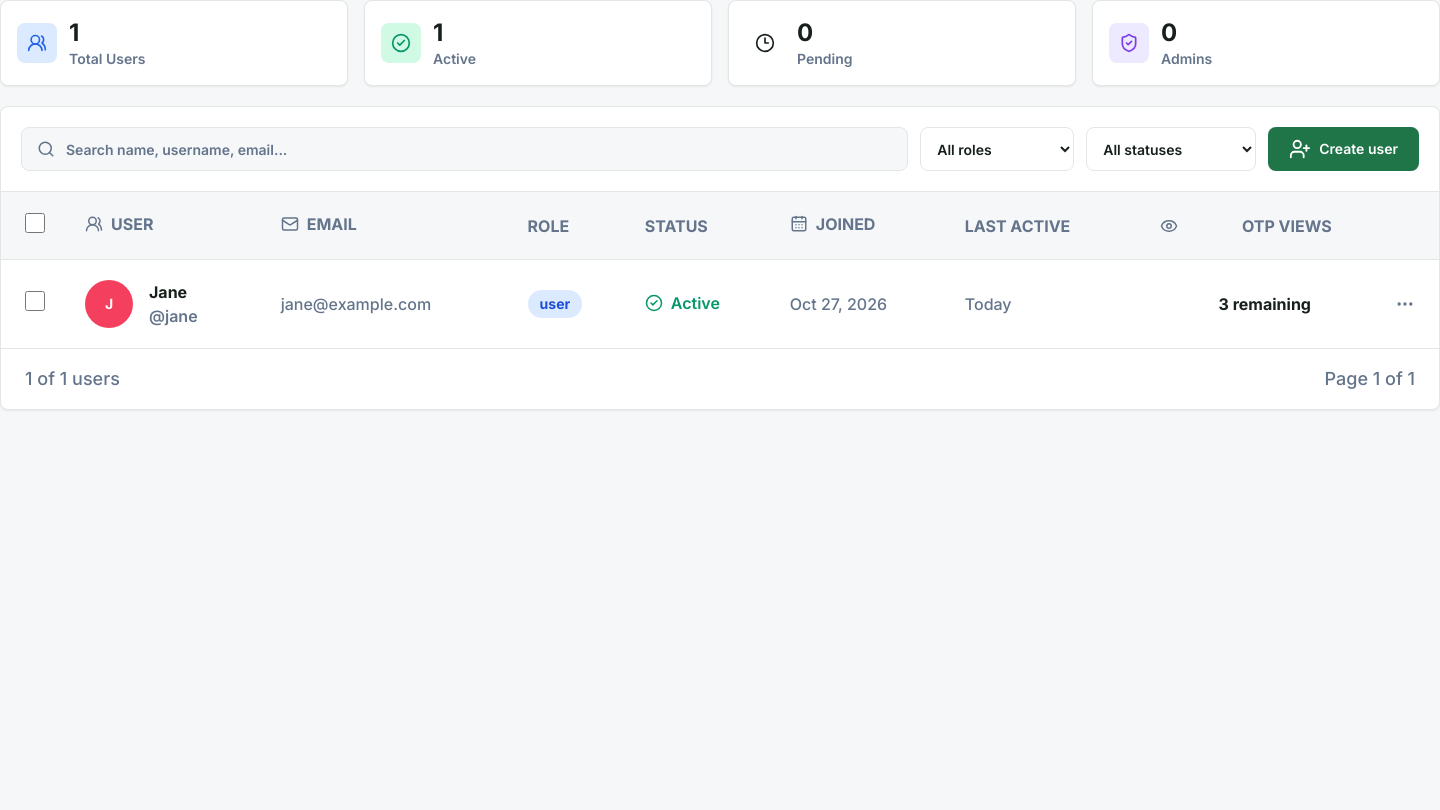
admin workflows › adjusts an account quota from the desktop controls
The width and height of the screenshot is (1440, 810).
Click the heading named "Actions for jane": [1405, 304] box [1395,294,1415,314]
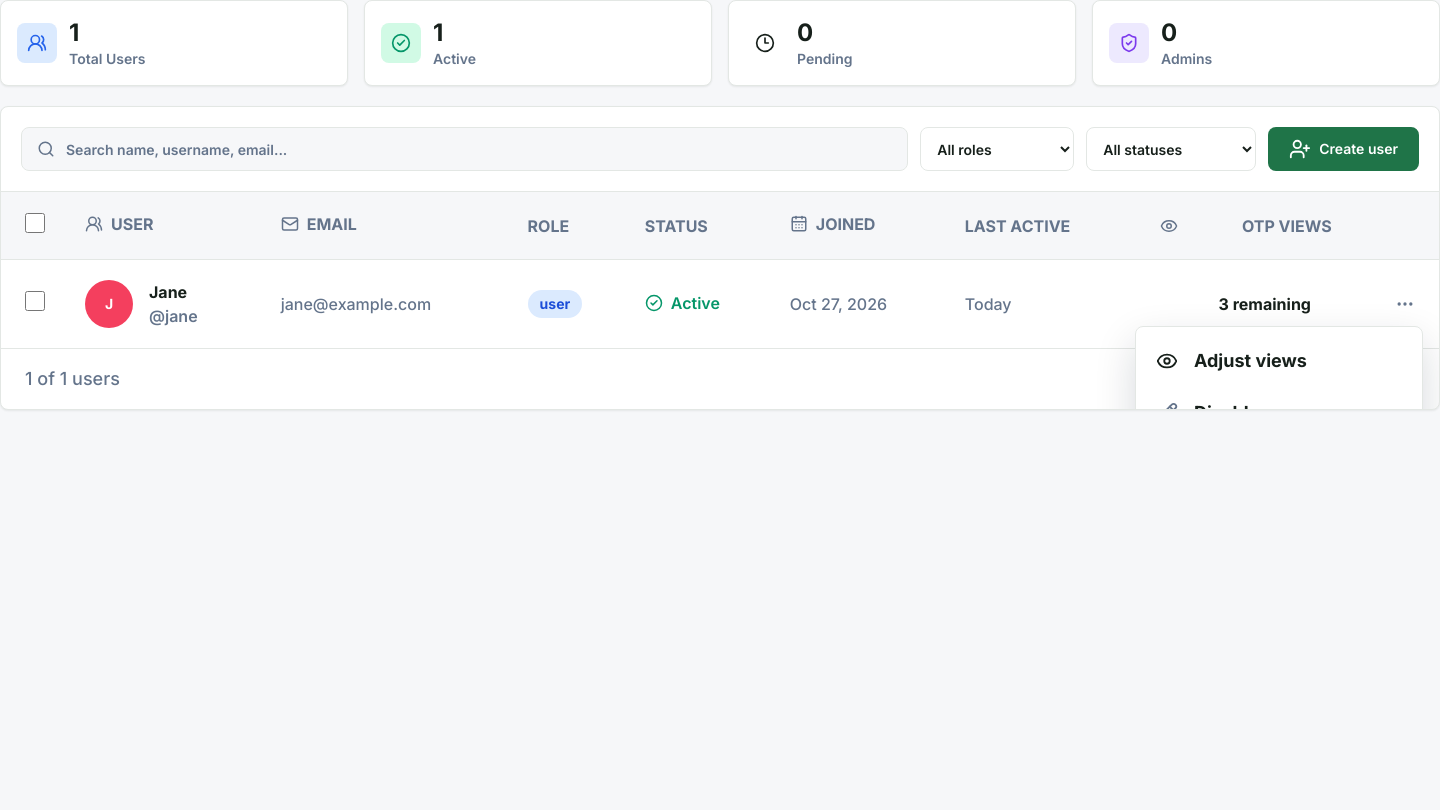
Click the button "Adjust views": [1279, 361] box [1136,335,1422,387]
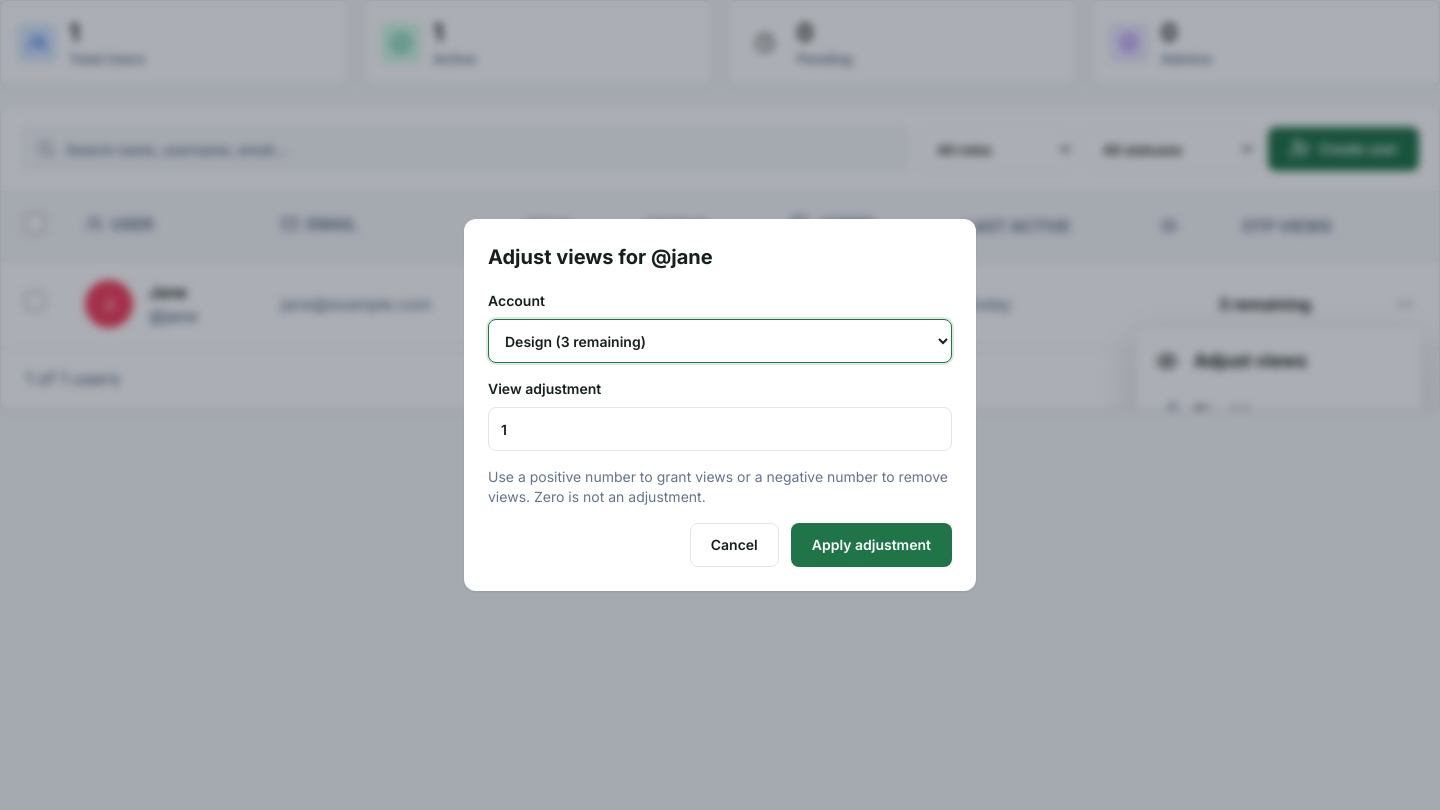
Select "Finance (0 remaining)" in the dropdown labelled "Account": [720, 341] box [488,319,952,363]
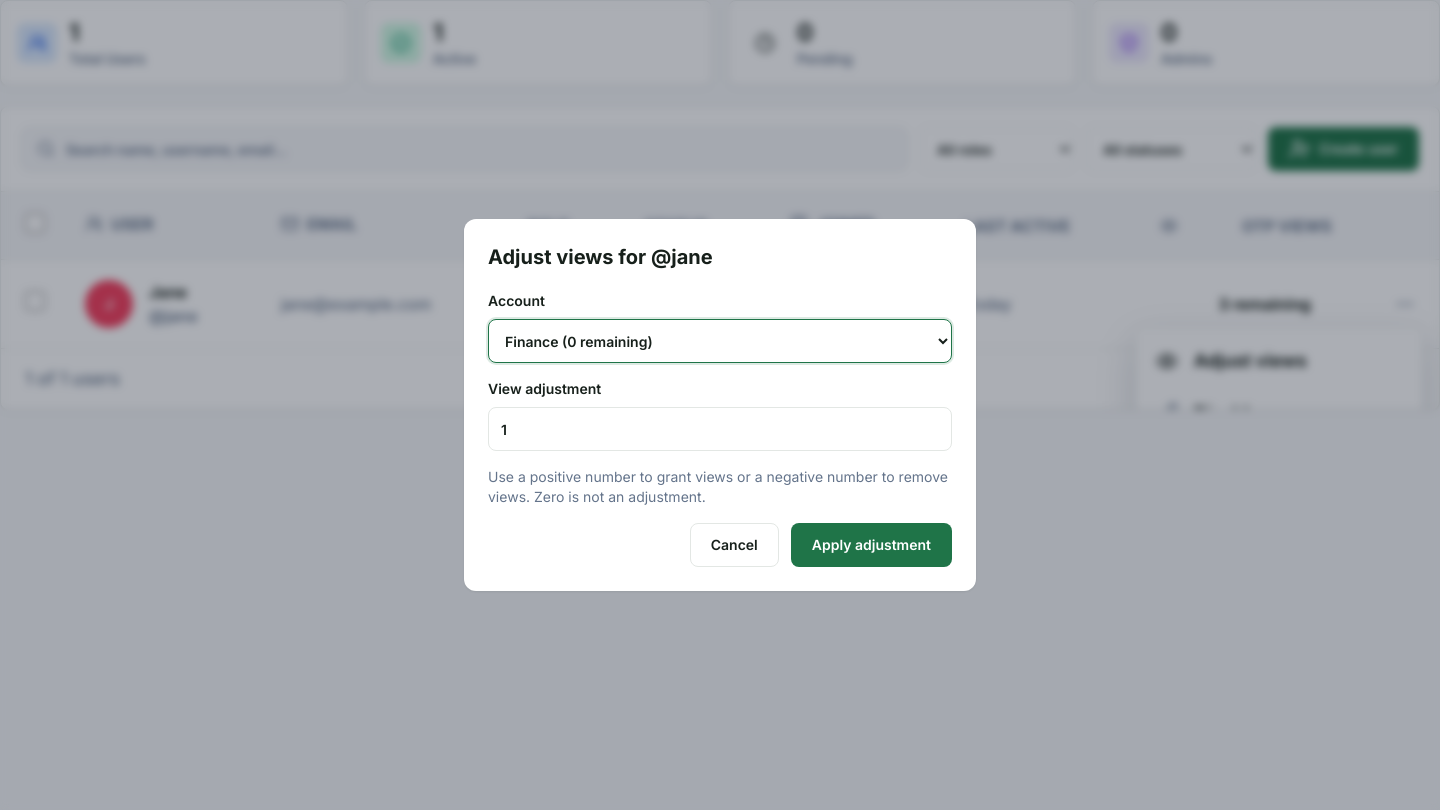
Replace the text in the number field labelled "View adjustment" with "-2": [720, 429] box [488,407,952,451]
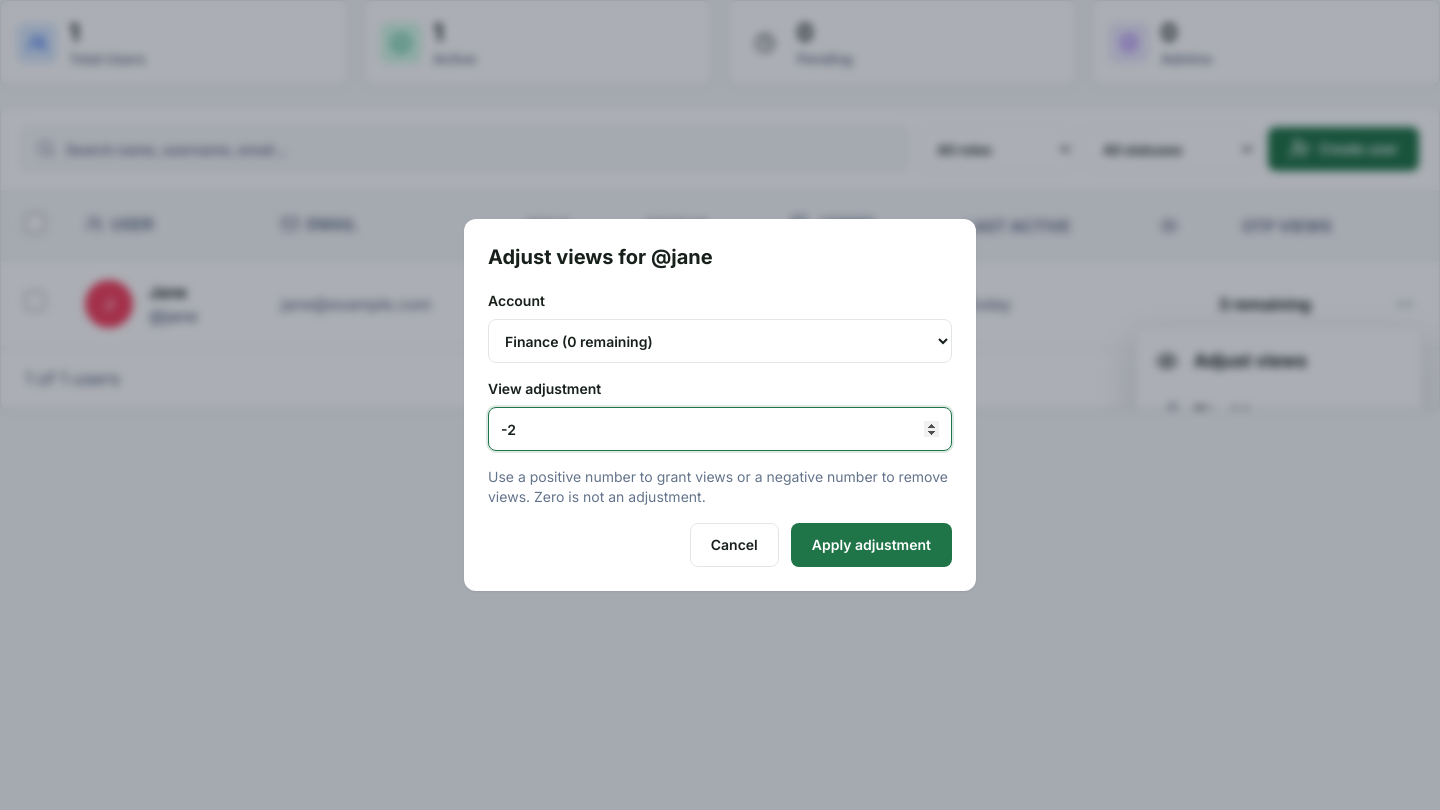
Click the button "Apply adjustment": [871, 545] box [791,523,952,567]
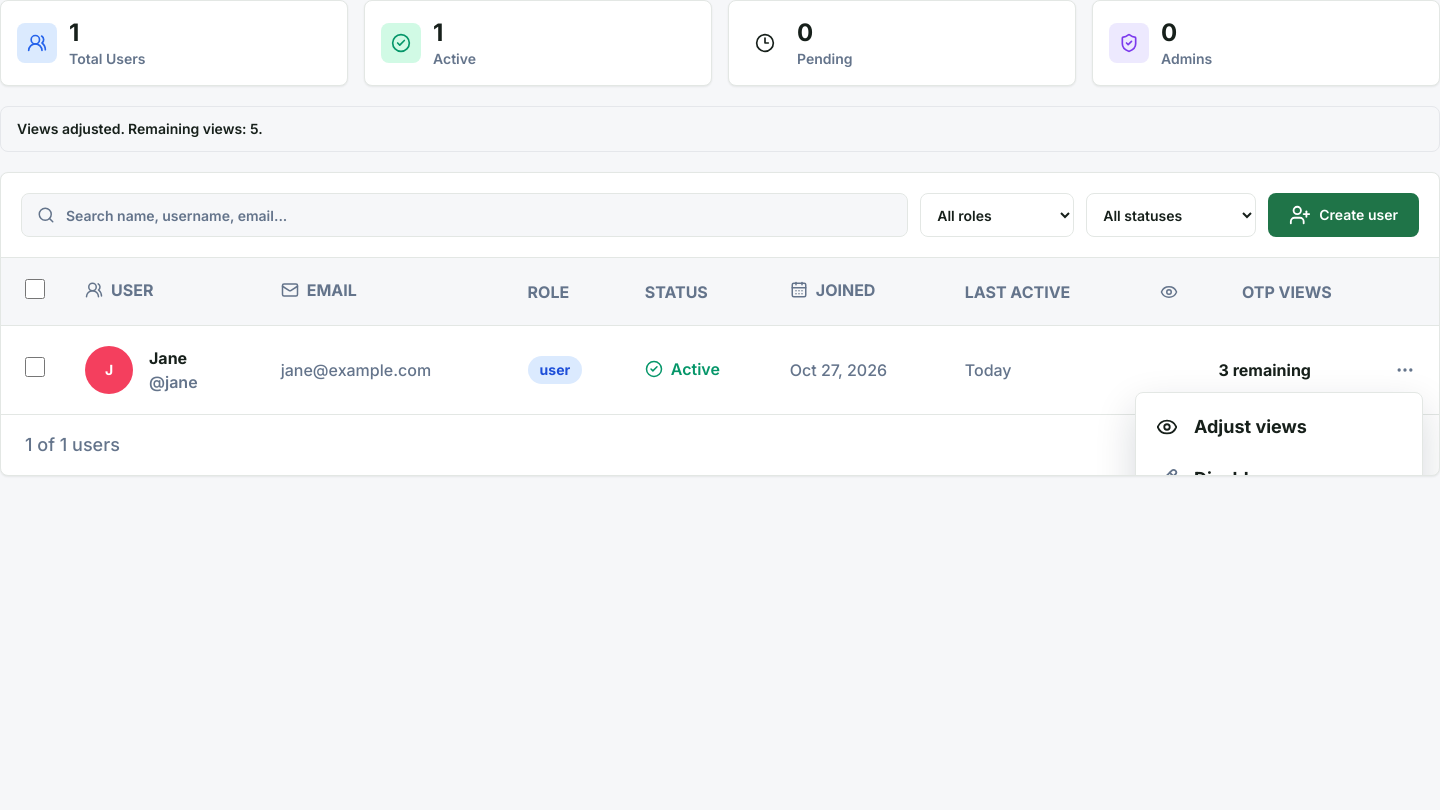
Check: the dialog is gone
Check: the text "Views adjusted. Remaining views: 5." is shown, box [0,106,1439,152]
